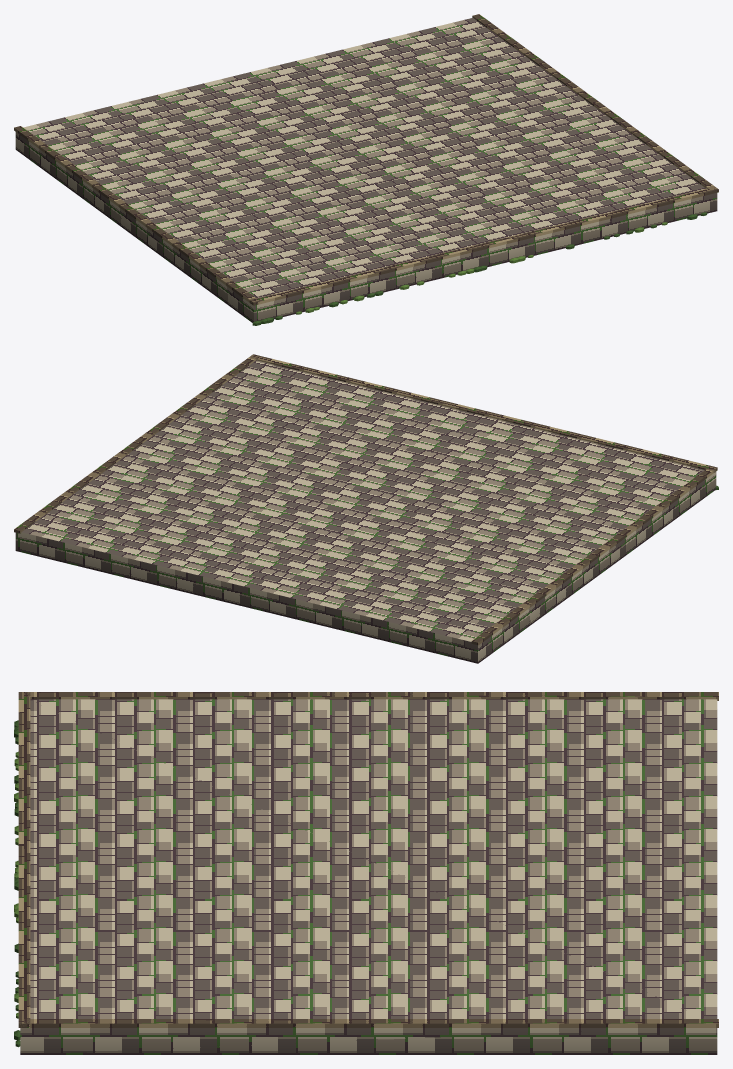
Rendered from scene_wall_s.glb.
3 views of the same model, one above another, from view 1: azimuth 30°, elevation 25°; view 2: azimuth 150°, elevation 25°; view 3: azimuth 270°, elevation 25° (orthographic). The views are drawn at different scales.
Visible parts, largest first — view 1: scene_wall_s; view 2: scene_wall_s; view 3: scene_wall_s.
Boxes of the visible parts, bbox=[...] form: scene_wall_s: bbox=[14, 14, 718, 325]; scene_wall_s: bbox=[14, 354, 718, 663]; scene_wall_s: bbox=[14, 692, 718, 1054].
Bounding box in the file's own units: 24.16 × 1.17 × 21.64.
Materials: 2 (1 with a texture image).
